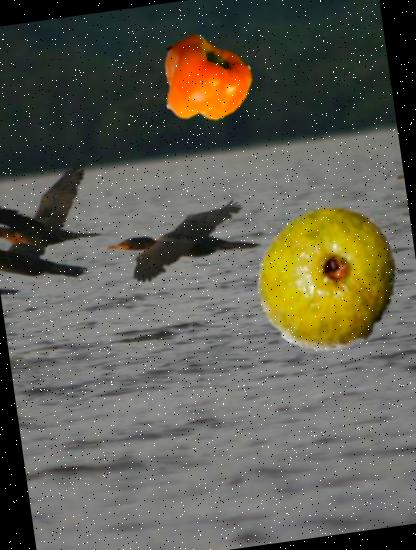Guava: (244, 195, 412, 363)
Pepper: (152, 27, 256, 130)
